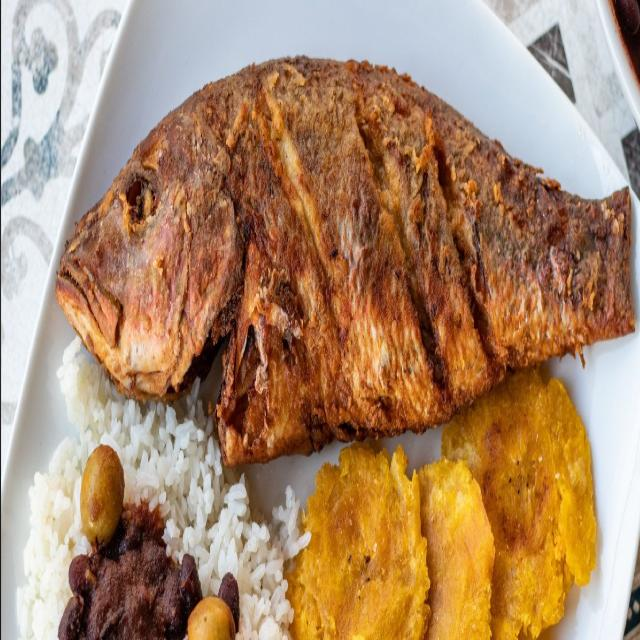FISH FRY: (56, 57, 634, 464)
